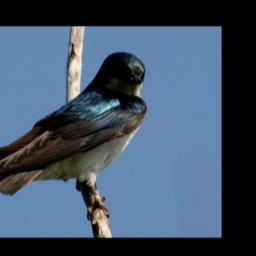Swallow: (0, 52, 147, 224)
